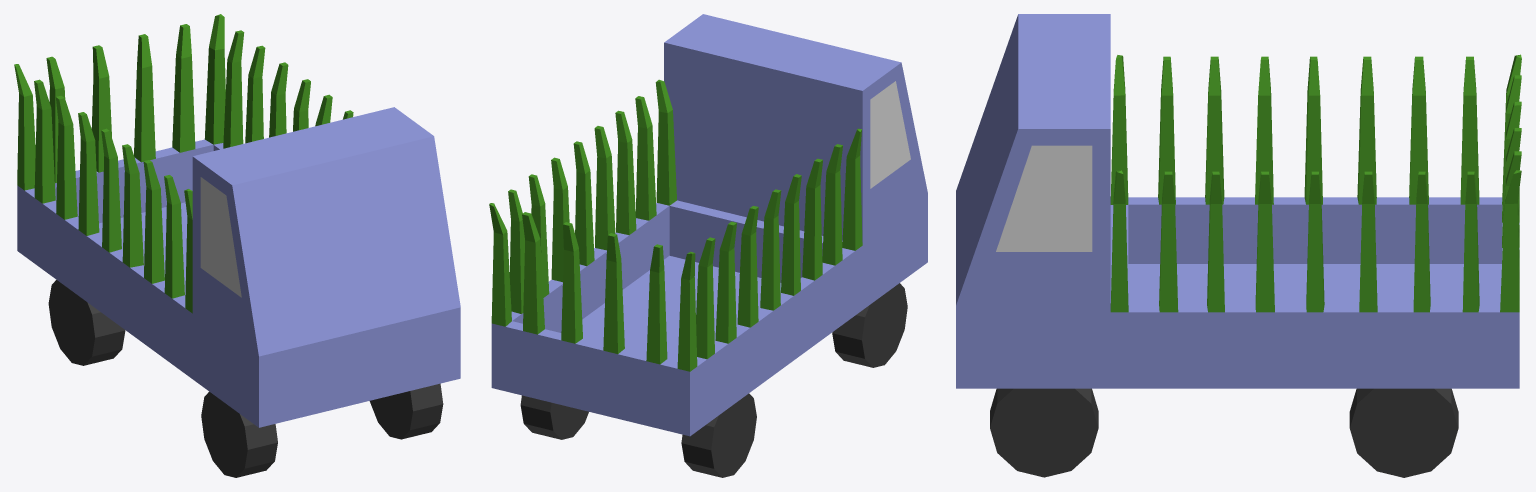
Rendered from truck.glb.
3 views of the same model, side by side, from view 1: azimuth 30°, elevation 25°; view 2: azimuth 150°, elevation 25°; view 3: azimuth 270°, elevation 25° (orthographic). The views are drawn at different scales.
Parts seen in each view (by area): view 1: Truck; view 2: Truck; view 3: Truck.
Boxes of the visible parts, bbox=[...] form: Truck: bbox=[14, 14, 460, 477]; Truck: bbox=[489, 14, 927, 477]; Truck: bbox=[956, 14, 1521, 477].
Size of the model in its own units: 2.06 by 2.85 by 4.16.
